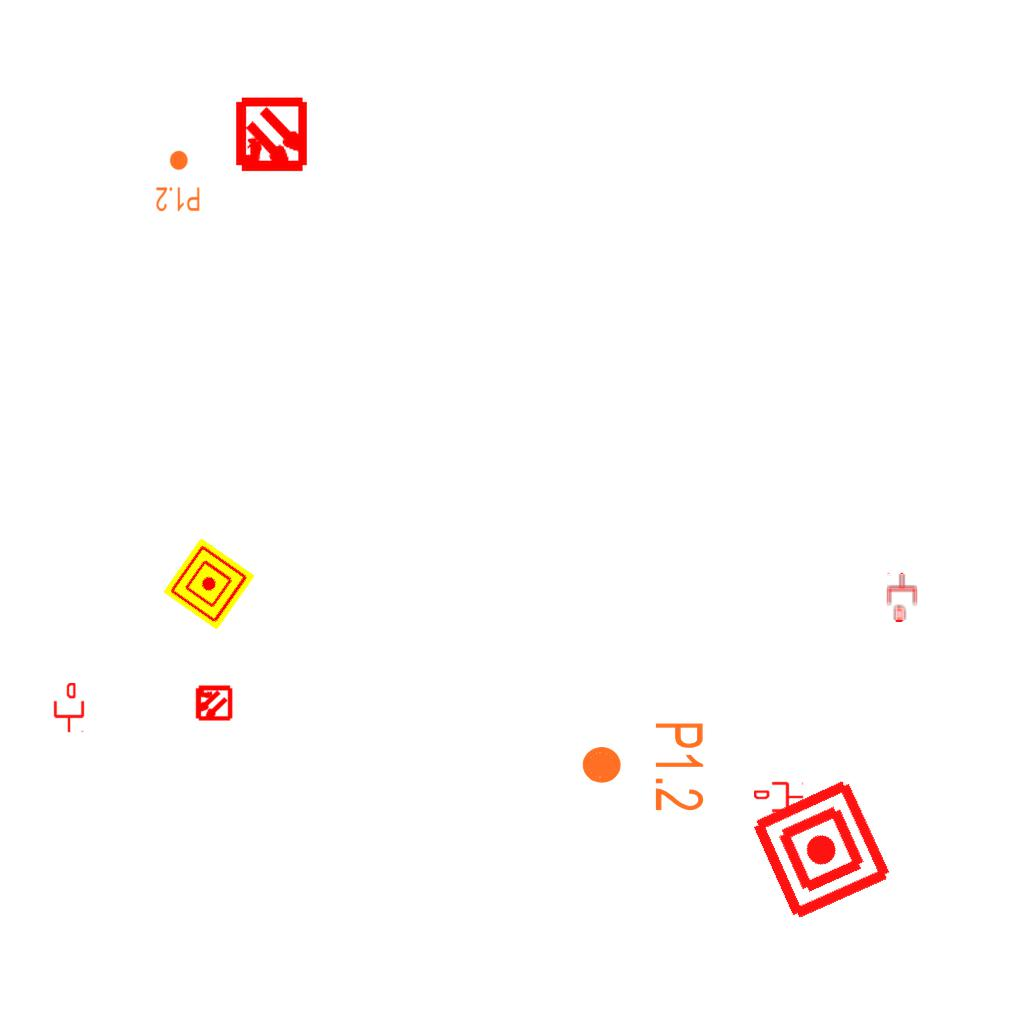Datenanschluss_einfach: (885, 572, 919, 622), (52, 683, 86, 733), (754, 780, 804, 814)
Downlight_LED_Einbauleuchten_Flur: (579, 720, 707, 813), (155, 149, 201, 213)
NAM-Nichtautomatischer_Melder: (746, 774, 897, 925), (163, 538, 255, 630)
OT_Multisensormelder_(Kombination_RMO_WMD): (215, 80, 328, 193), (185, 675, 241, 731)
